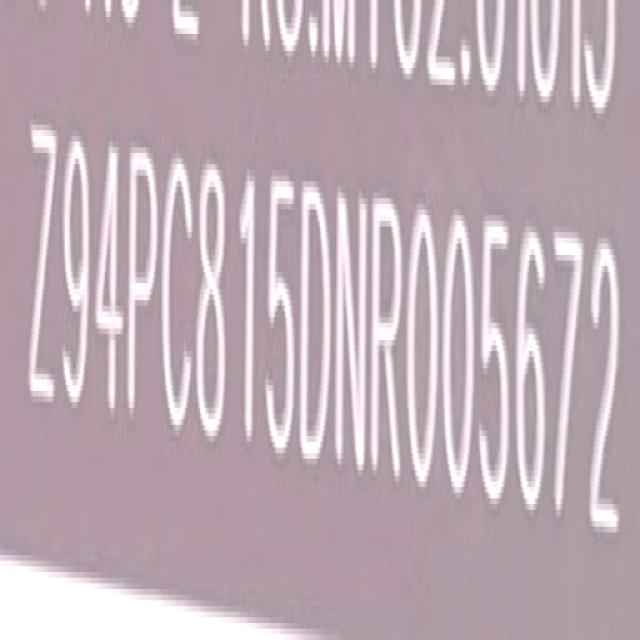0: (444, 215, 477, 500), (409, 209, 441, 494)
1: (235, 165, 258, 453)
2: (591, 237, 624, 543)
4: (95, 135, 126, 425)
5: (479, 212, 512, 511), (265, 174, 297, 465)
6: (518, 222, 550, 521)
7: (554, 226, 586, 531)
8: (198, 157, 230, 446)
9: (64, 130, 91, 422)
C: (162, 150, 194, 442)
D: (300, 183, 331, 474)
N: (335, 189, 368, 476)
P: (129, 143, 161, 434)
R: (374, 192, 408, 488)
Z: (28, 122, 59, 419)
